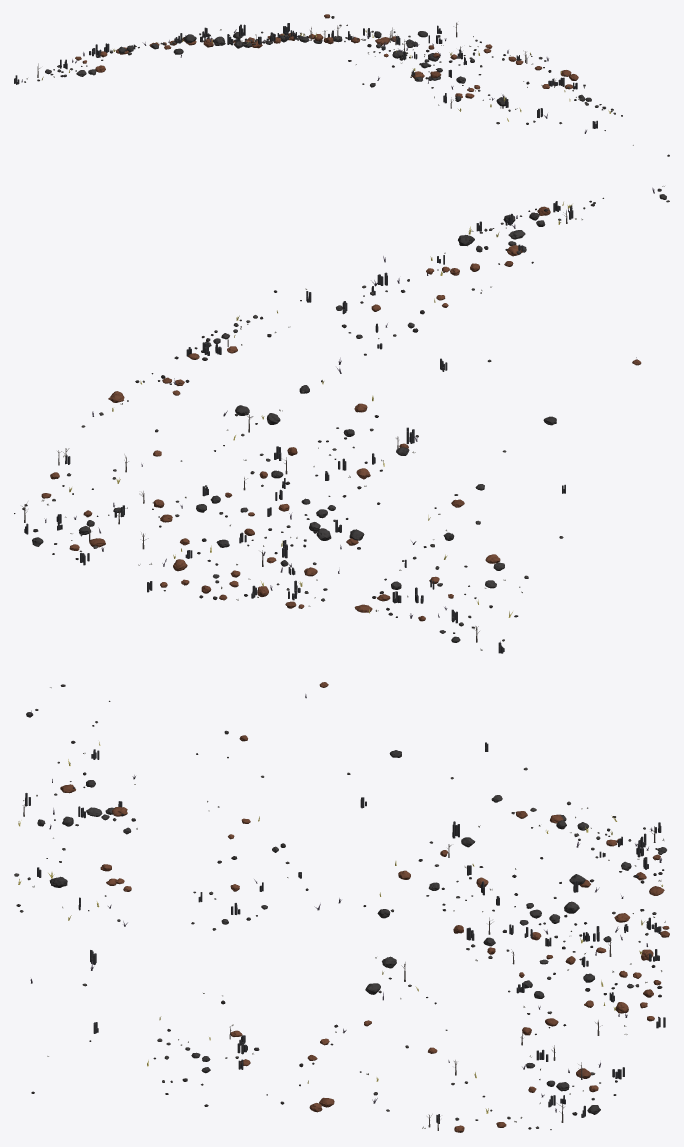
File: ash_land_scatter_c21_28.glb
3 views of the same model, one above another, from view 1: azimuth 30°, elevation 25°; view 2: azimuth 150°, elevation 25°; view 3: azimuth 270°, elevation 25° (orthographic). The views are drawn at different scales.
Parts seen in each view (by area): view 1: ash_land_scatter_c21_28; view 2: ash_land_scatter_c21_28; view 3: ash_land_scatter_c21_28.
Boxes of the visible parts, <box> form: ash_land_scatter_c21_28: <box>14,14,669,156</box>; ash_land_scatter_c21_28: <box>14,186,669,653</box>; ash_land_scatter_c21_28: <box>14,682,669,1132</box>.
Bounding box in the file's own units: 257 × 110 × 258.
